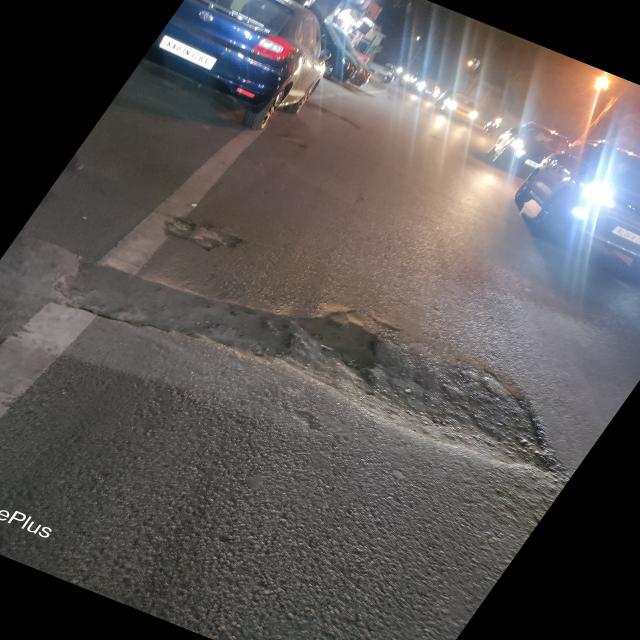potholes: (39, 217, 563, 468)
